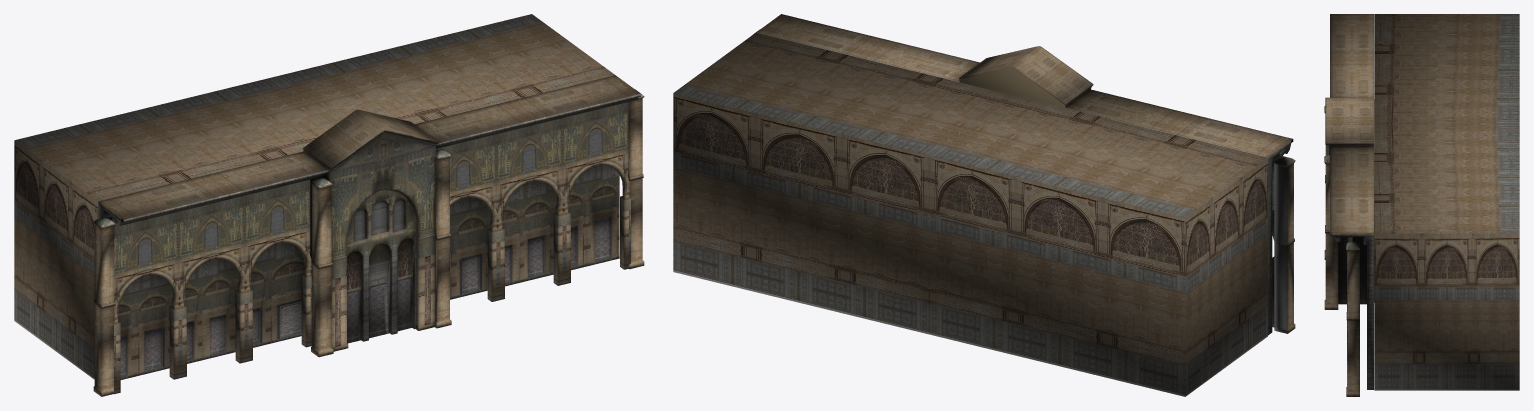
File: building5.gltf
The picture shows the model from 3 angles, left to right: view 1: azimuth 30°, elevation 25°; view 2: azimuth 150°, elevation 25°; view 3: azimuth 270°, elevation 25°; orthographic projection. The views are drawn at different scales.
Parts seen in each view (by area): view 1: building5; view 2: building5; view 3: building5.
Boxes of the visible parts, <box> form: building5: <box>14,14,644,396</box>; building5: <box>673,14,1295,396</box>; building5: <box>1324,14,1519,396</box>.
Size of the model in its own units: 13.39 by 4.98 by 4.81.
Materials: 2 (2 with a texture image).
